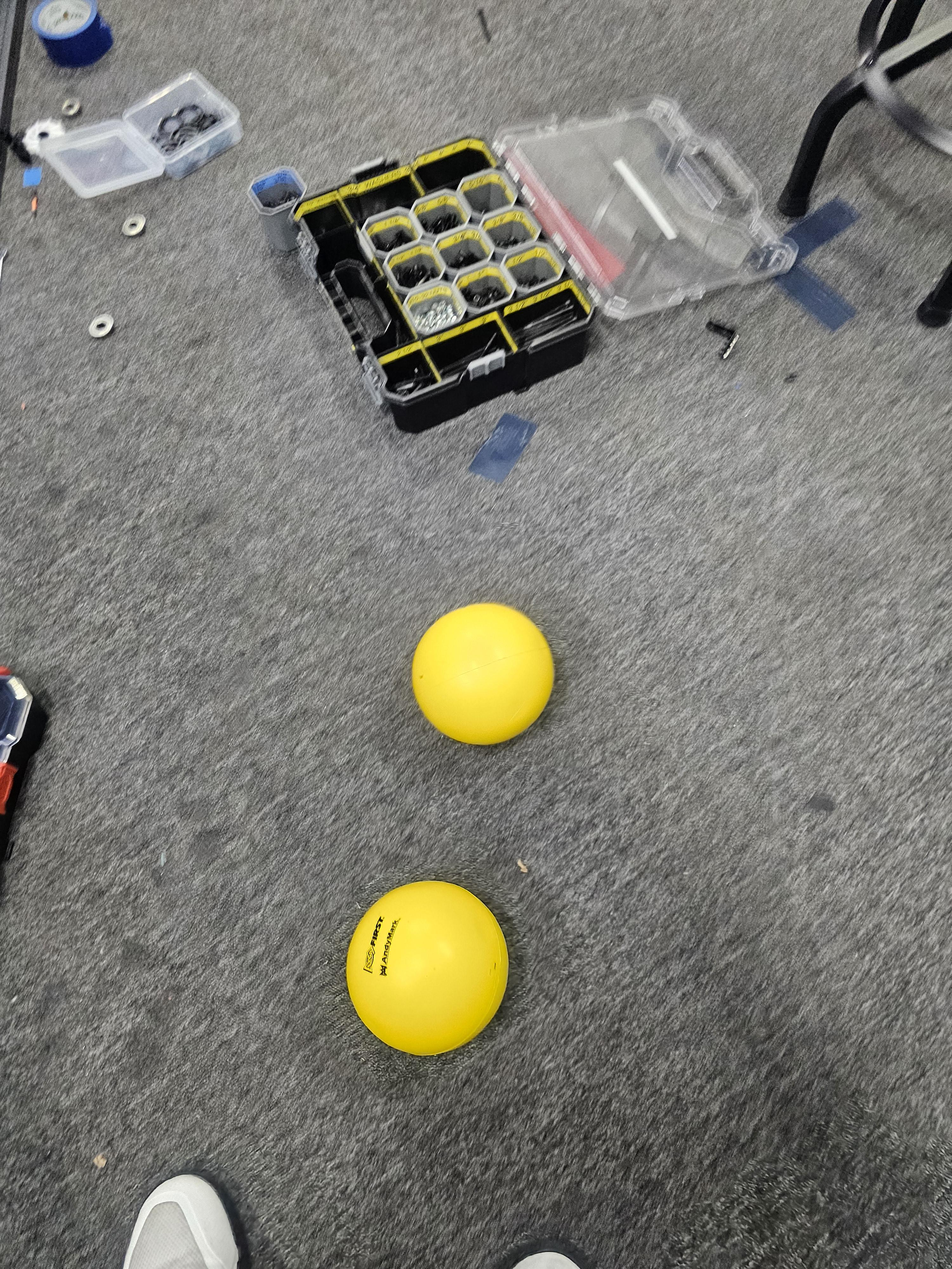fuel: (333, 872, 530, 1060), (398, 589, 566, 754)
